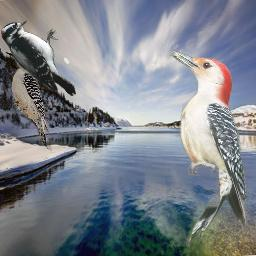Woodpecker: (167, 49, 246, 247), (1, 20, 76, 96), (4, 47, 53, 153)
